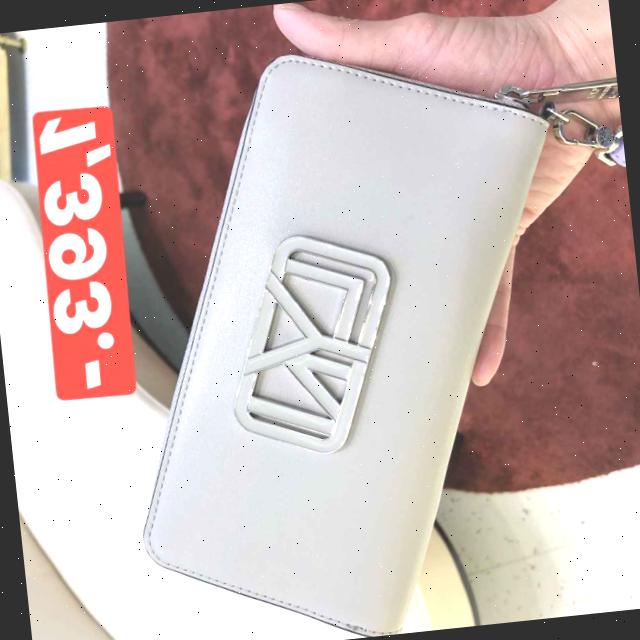Handbag: (93, 24, 624, 640)
